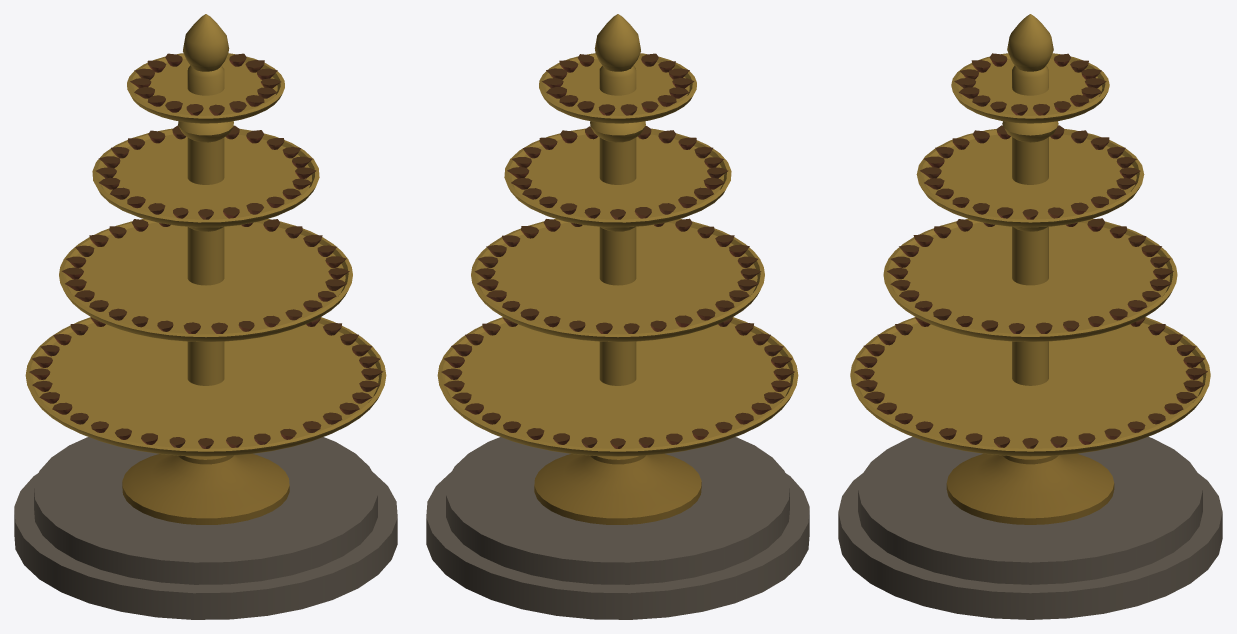
File: deepa-stand.glb
The picture shows the model from 3 angles, left to right: view 1: azimuth 30°, elevation 25°; view 2: azimuth 150°, elevation 25°; view 3: azimuth 270°, elevation 25°; orthographic projection.
Parts seen in each view (by area): view 1: deepa-stand; view 2: deepa-stand; view 3: deepa-stand.
Boxes of the visible parts, left/top/right/bottom form: deepa-stand: left=14, top=14, right=397, bottom=619; deepa-stand: left=426, top=14, right=809, bottom=619; deepa-stand: left=838, top=14, right=1222, bottom=619.
Bounding box in the file's own units: 1.56 × 2.35 × 1.56.
